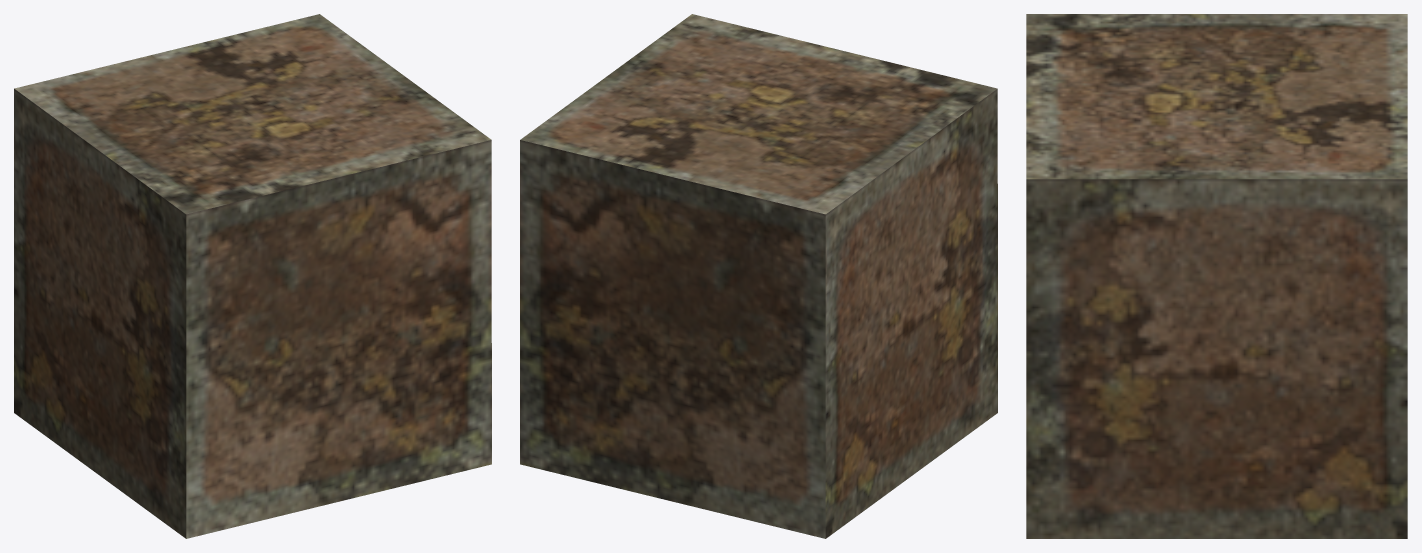
The model's file is materials_5_decoration_26.fbx.
3 views of the same model, side by side, from view 1: azimuth 30°, elevation 25°; view 2: azimuth 150°, elevation 25°; view 3: azimuth 270°, elevation 25° (orthographic). The views are drawn at different scales.
Parts seen in each view (by area): view 1: materials_5_decoration_26; view 2: materials_5_decoration_26; view 3: materials_5_decoration_26.
Boxes of the visible parts, x1,y1,x2,y2 form: materials_5_decoration_26: (14, 14, 491, 538); materials_5_decoration_26: (520, 14, 997, 538); materials_5_decoration_26: (1026, 14, 1407, 538).
Bounding box in the file's own units: 17.86 × 18.12 × 17.42.
